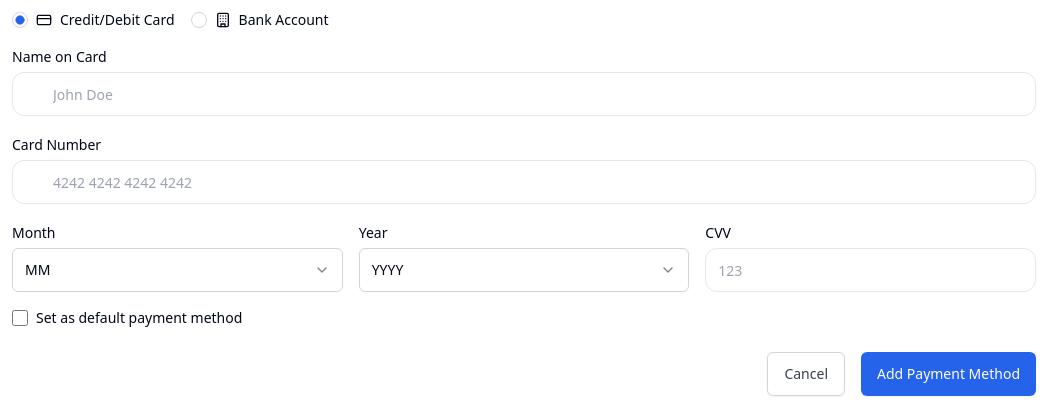
PaymentMethodForm Component › Form Interactions - Card › formats card number with spaces
Type "4242424242424242" into the field labelled "Card Number" at (524, 182), box [12, 160, 1036, 204]
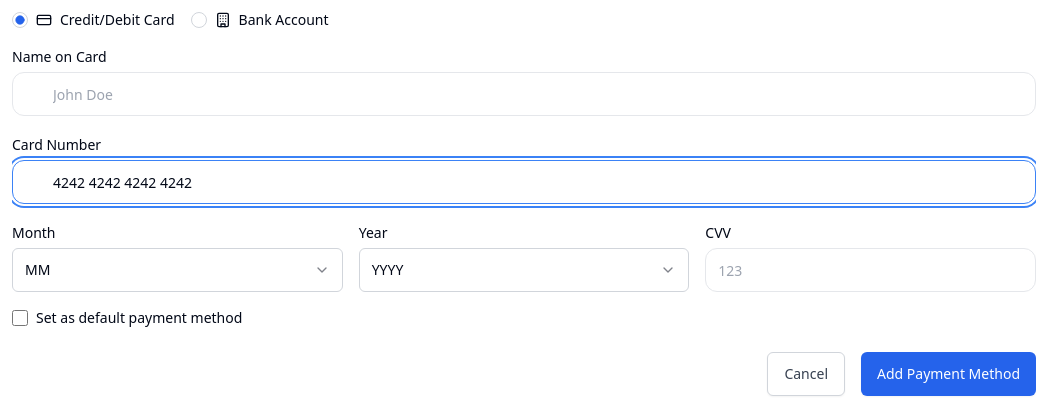
Check: the field labelled "Card Number" holds "4242 4242 4242 4242", box [12, 160, 1036, 204]
